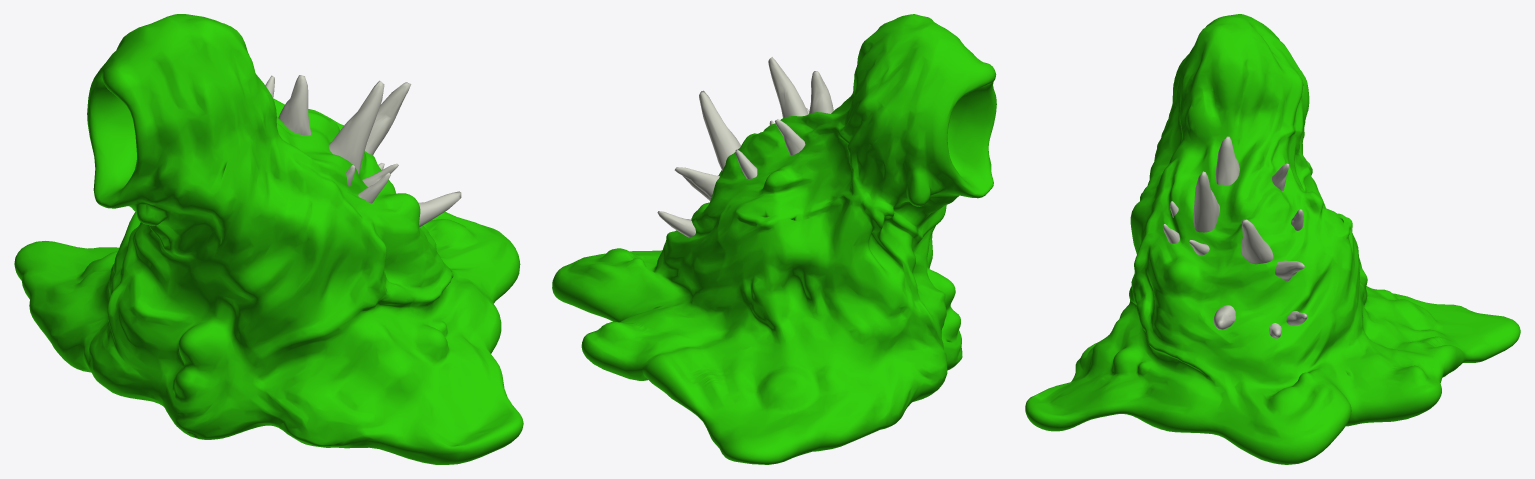
Rendered from jelly monster (baked).fbx.
3 renders of one model, left to right at view 1: azimuth 30°, elevation 25°; view 2: azimuth 150°, elevation 25°; view 3: azimuth 270°, elevation 25°, orthographic. The views are drawn at different scales.
Visible parts, largest first — view 1: jelly monster, spikes; view 2: jelly monster, spikes; view 3: jelly monster, spikes.
Part boxes in pixels (bbox=[...]): jelly monster: bbox=[14, 14, 523, 464]; spikes: bbox=[265, 75, 461, 227]; jelly monster: bbox=[552, 14, 996, 464]; spikes: bbox=[657, 57, 833, 237]; jelly monster: bbox=[1025, 14, 1520, 464]; spikes: bbox=[1163, 136, 1307, 338].
Bounding box in the file's own units: 384 × 334 × 447.
